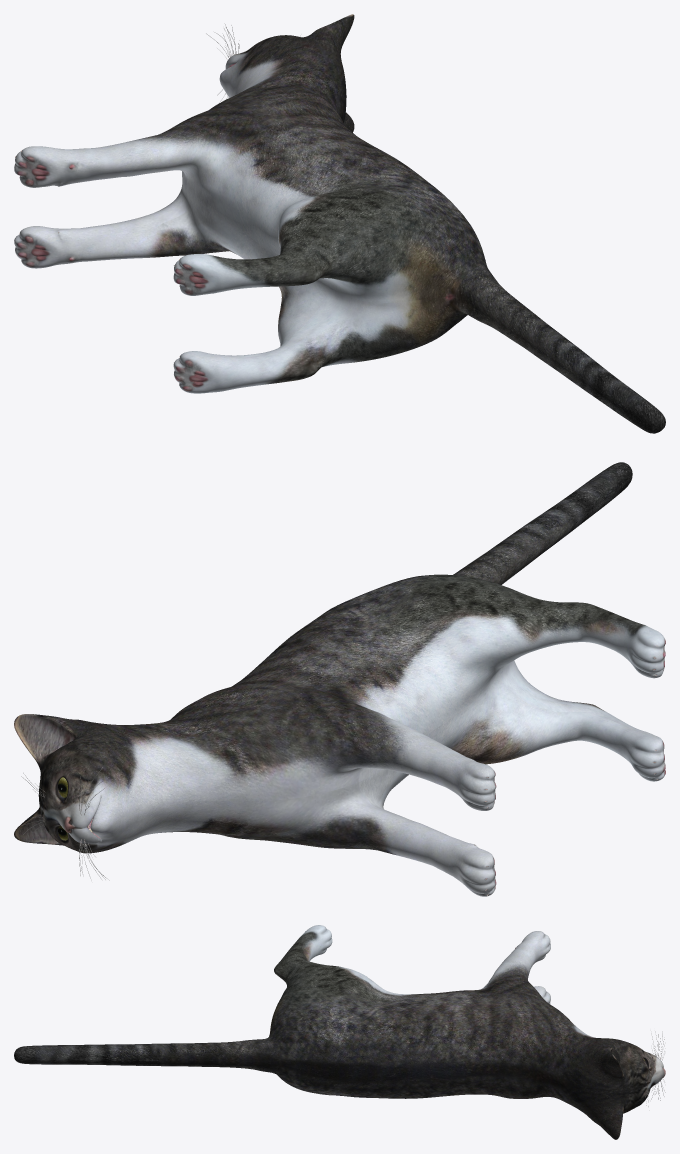
The model's file is 写实mao.fbx.
The picture shows the model from 3 angles, top to bottom: view 1: azimuth 30°, elevation 25°; view 2: azimuth 150°, elevation 25°; view 3: azimuth 270°, elevation 25°; orthographic projection. The views are drawn at different scales.
Visible parts, largest first — view 1: cat; view 2: cat; view 3: cat.
Part boxes in pixels (left/top/right/bottom): cat: left=14, top=14, right=665, bottom=433; cat: left=14, top=462, right=665, bottom=896; cat: left=14, top=925, right=665, bottom=1139.
Size of the model in its own units: 29.98 by 62.48 by 10.45.
Materials: 1 (1 with a texture image).
